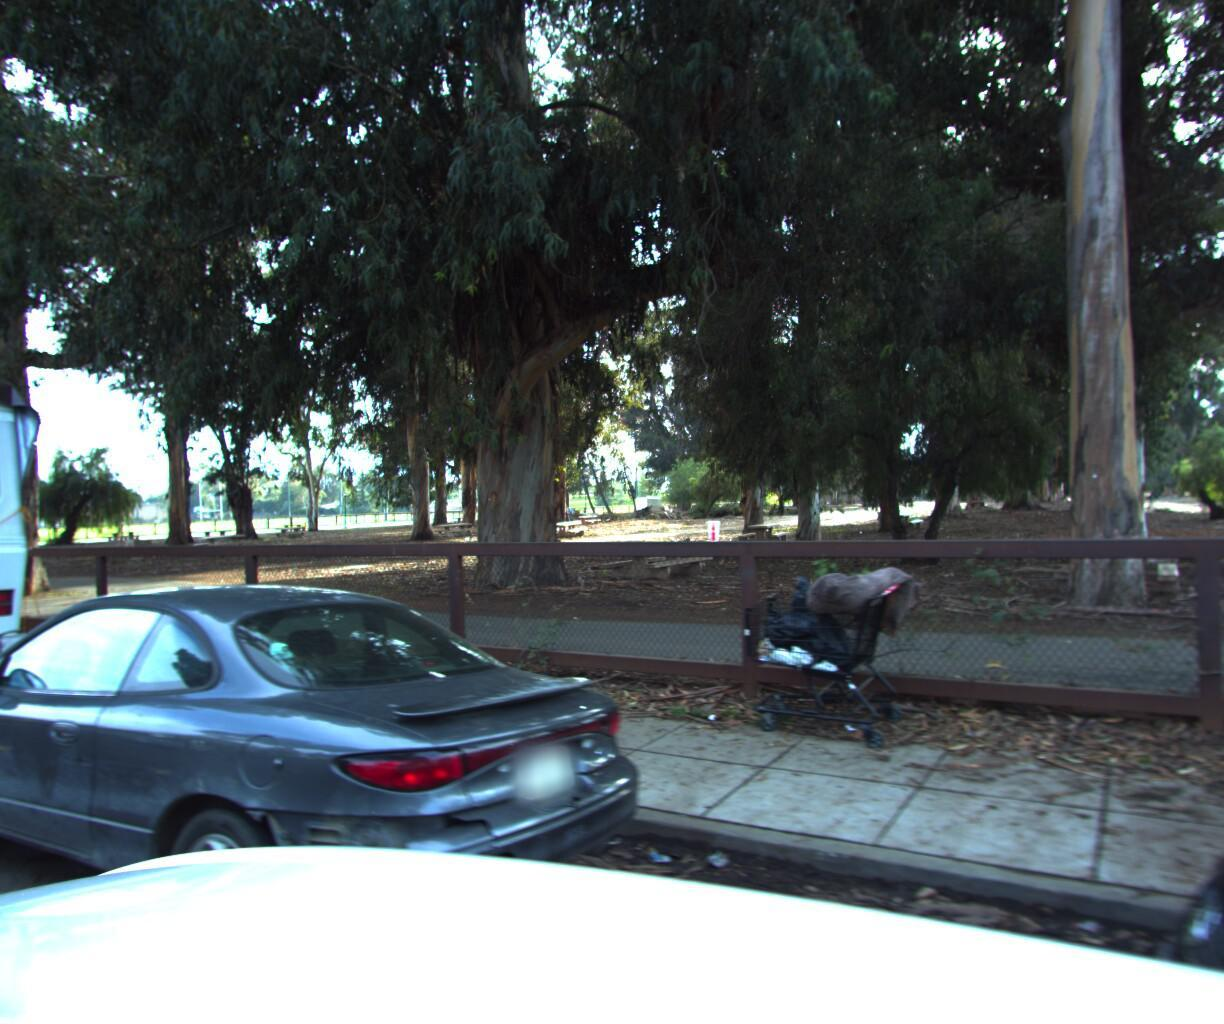car: (0, 566, 676, 1024)
other_vehicle: (0, 290, 67, 824)
